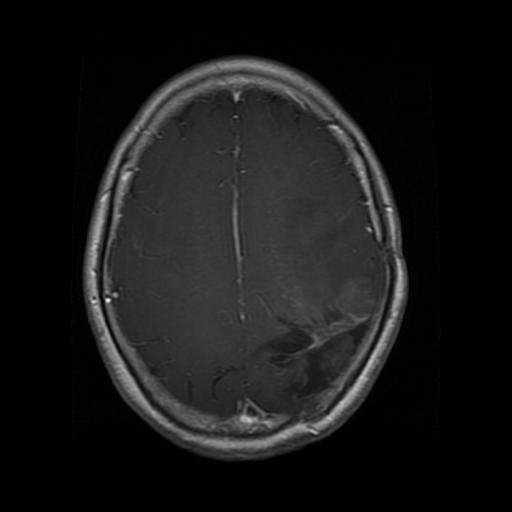Tumour-Glioma: (279, 321, 378, 385)
